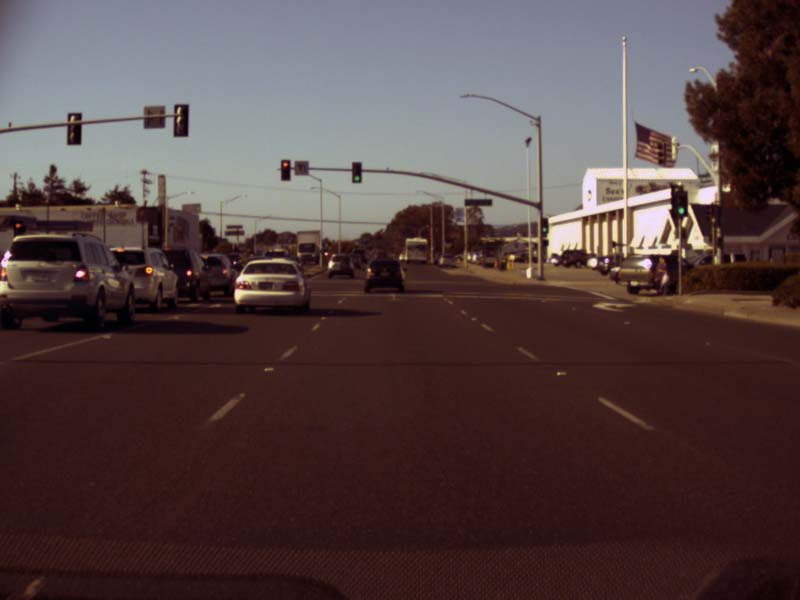Green: (675, 190, 687, 215), (352, 162, 361, 183), (540, 218, 547, 233)
Red: (13, 219, 22, 237), (281, 160, 289, 180)
